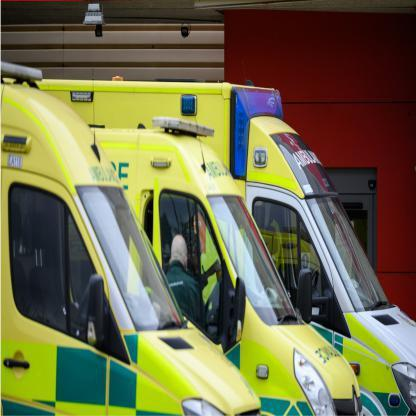Ambulance - v1 Ambulance last generate: (39, 35, 415, 415), (0, 57, 263, 415), (92, 124, 360, 414)
